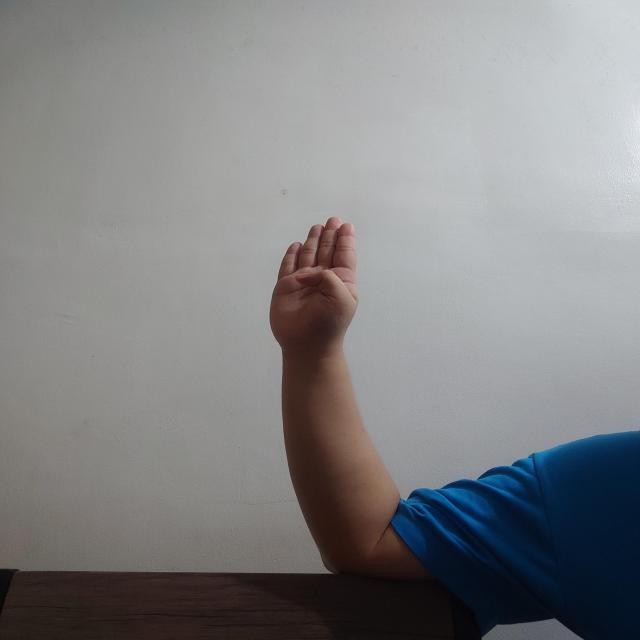B: (270, 216, 359, 347)
